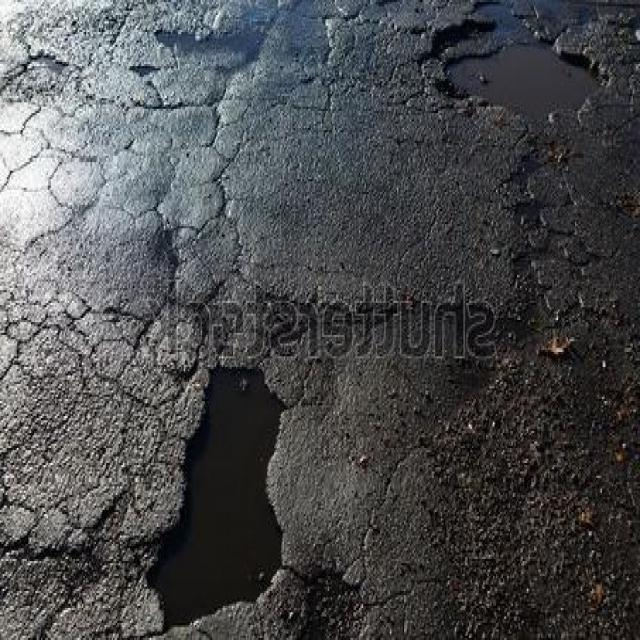Pothole: (148, 360, 298, 631), (432, 16, 617, 125), (295, 562, 373, 637), (2, 48, 73, 103)
